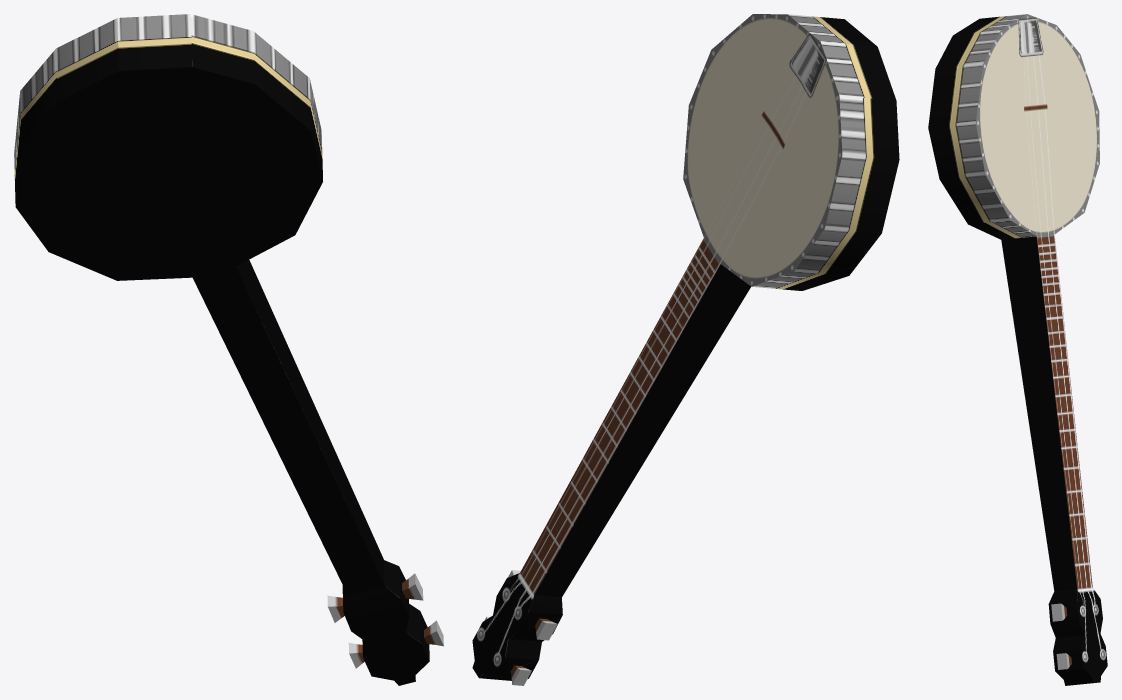
Rendered from guitarra1_000192.obj.
The picture shows the model from 3 angles, left to right: view 1: azimuth 30°, elevation 25°; view 2: azimuth 150°, elevation 25°; view 3: azimuth 270°, elevation 25°; orthographic projection. The views are drawn at different scales.
Parts seen in each view (by area): view 1: g1_pCube6; view 2: g1_pCube6; view 3: g1_pCube6.
Boxes of the visible parts, box(x1,y1,x2,y2) form: g1_pCube6: box(14, 14, 443, 685); g1_pCube6: box(472, 14, 899, 685); g1_pCube6: box(928, 14, 1107, 685).
Bounding box in the file's own units: 7.48 × 12.36 × 3.57.
